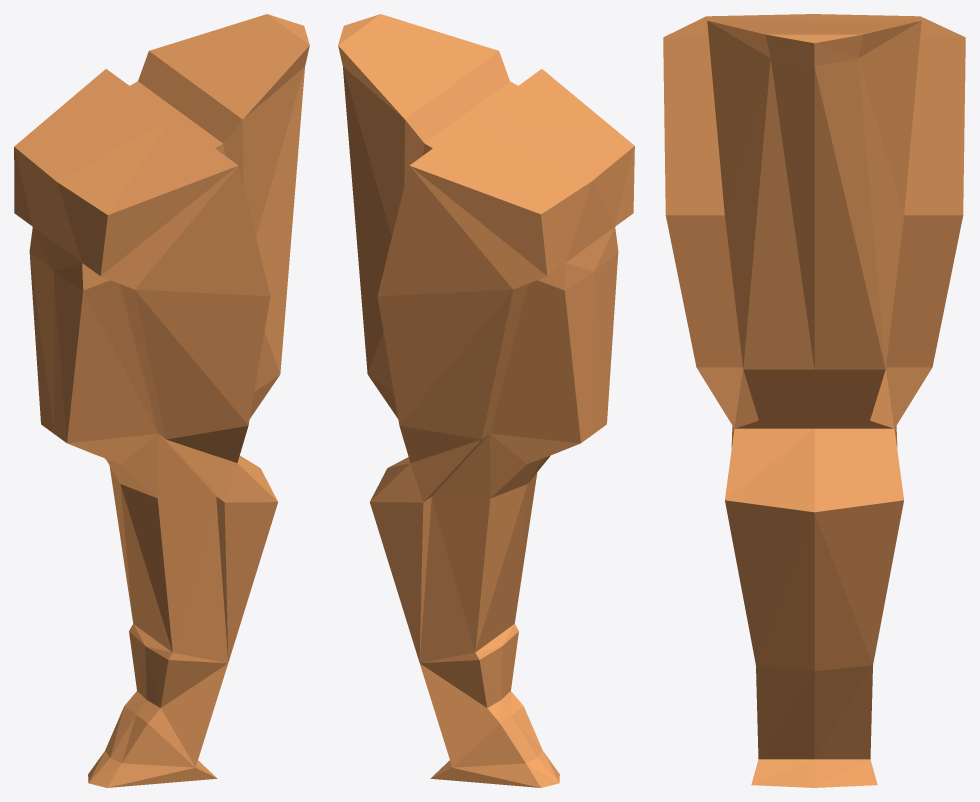
File: Rock_Large_Canyon_Eroded_25.FBX
3 views of the same model, side by side, from view 1: azimuth 30°, elevation 25°; view 2: azimuth 150°, elevation 25°; view 3: azimuth 270°, elevation 25° (orthographic). The views are drawn at different scales.
Visible parts, largest first — view 1: Rock_Large_Canyon_Eroded_25; view 2: Rock_Large_Canyon_Eroded_25; view 3: Rock_Large_Canyon_Eroded_25.
Part boxes in pixels (x1=…): Rock_Large_Canyon_Eroded_25: x1=14, y1=14, x2=309, y2=787; Rock_Large_Canyon_Eroded_25: x1=338, y1=14, x2=634, y2=787; Rock_Large_Canyon_Eroded_25: x1=663, y1=14, x2=965, y2=787.
Size of the model in its own units: 4875 by 13107 by 4462.
